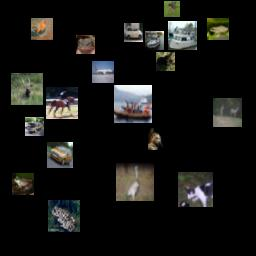airplane: (92, 61, 114, 83)
automobile: (47, 142, 73, 168), (25, 117, 44, 136), (124, 23, 143, 42)
bird: (116, 163, 154, 201), (31, 18, 53, 40)
cat: (178, 172, 213, 207), (148, 128, 170, 150)
deer: (11, 73, 43, 105), (213, 98, 242, 127), (164, 1, 180, 17)
dog: (156, 52, 175, 71)
frog: (48, 200, 80, 232), (12, 173, 34, 195), (207, 18, 229, 40), (76, 35, 95, 54)
ship: (114, 85, 152, 123), (168, 21, 197, 50), (145, 31, 164, 50)
